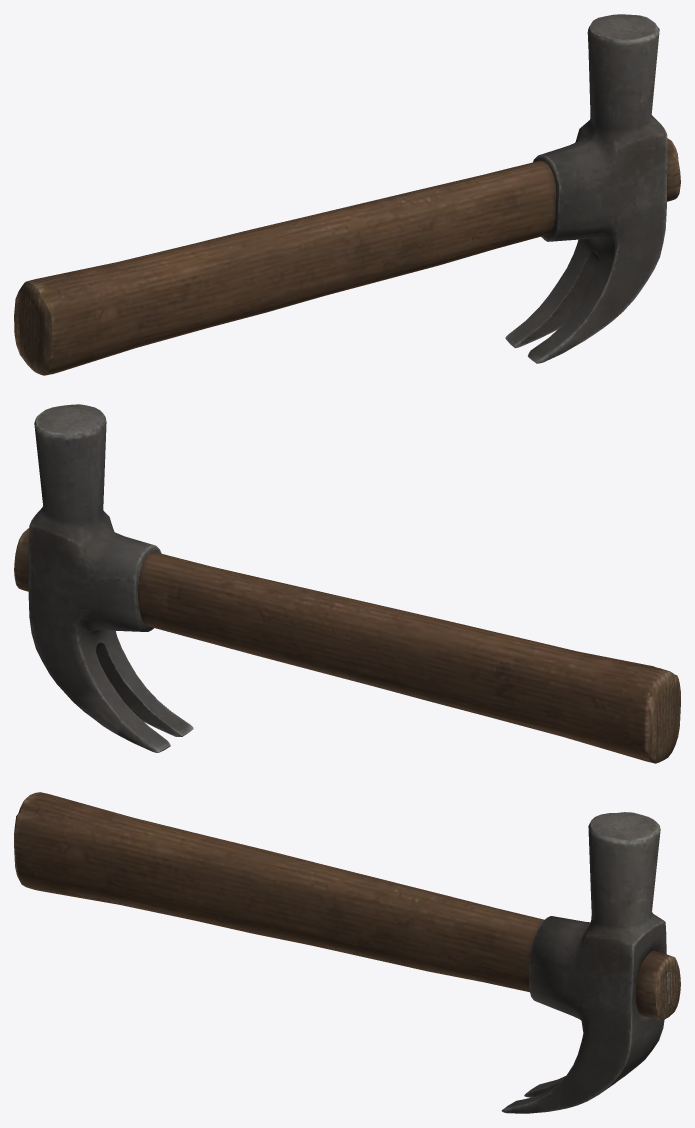
Rendered from hammer.glb.
The picture shows the model from 3 angles, top to bottom: view 1: azimuth 30°, elevation 25°; view 2: azimuth 150°, elevation 25°; view 3: azimuth 330°, elevation 25°; orthographic projection.
Parts seen in each view (by area): view 1: hammer, Object008 #331122; view 2: hammer, Object008 #331122; view 3: hammer, Object008 #331122.
Part boxes in pixels (bbox=[...]): hammer: bbox=[14, 138, 680, 375]; Object008 #331122: bbox=[505, 14, 667, 363]; hammer: bbox=[14, 528, 680, 763]; Object008 #331122: bbox=[28, 404, 193, 752]; hammer: bbox=[14, 792, 680, 1019]; Object008 #331122: bbox=[501, 812, 666, 1113].
Bounding box in the file's own units: 2.67 × 1.2 × 0.2717.
Materials: 1 (1 with a texture image).
